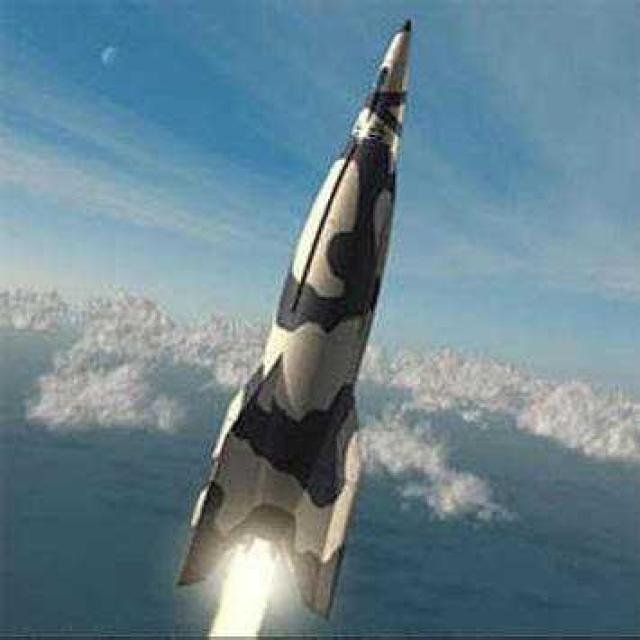missile: (175, 8, 438, 626)
